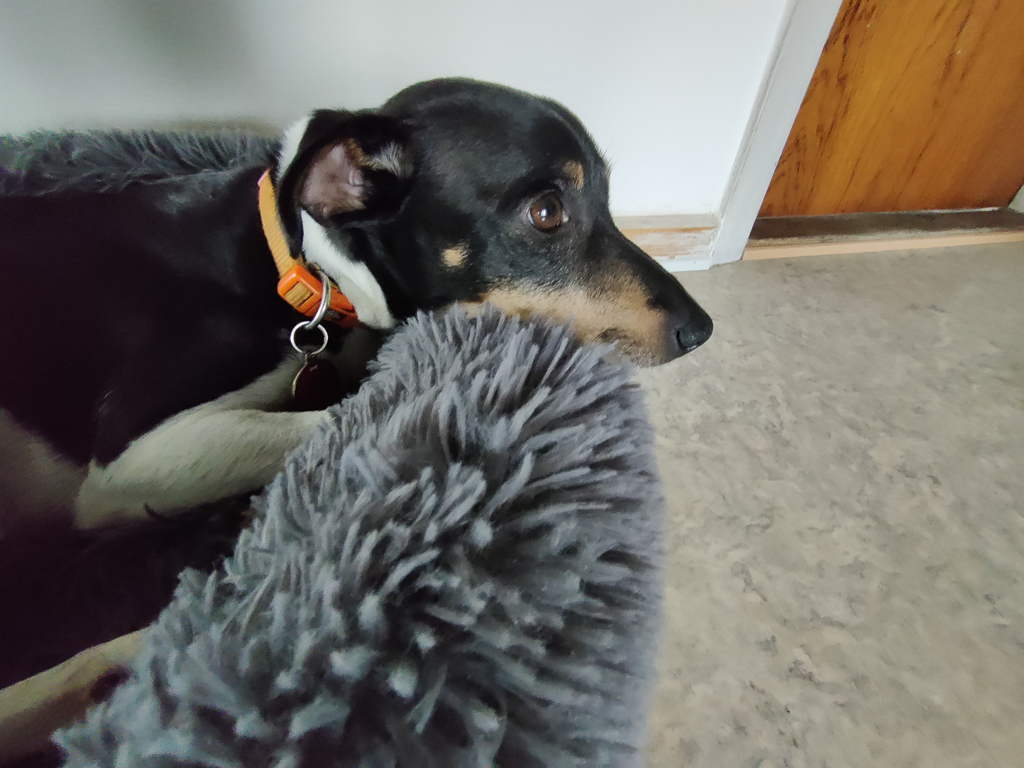Dog: (0, 67, 723, 768)
